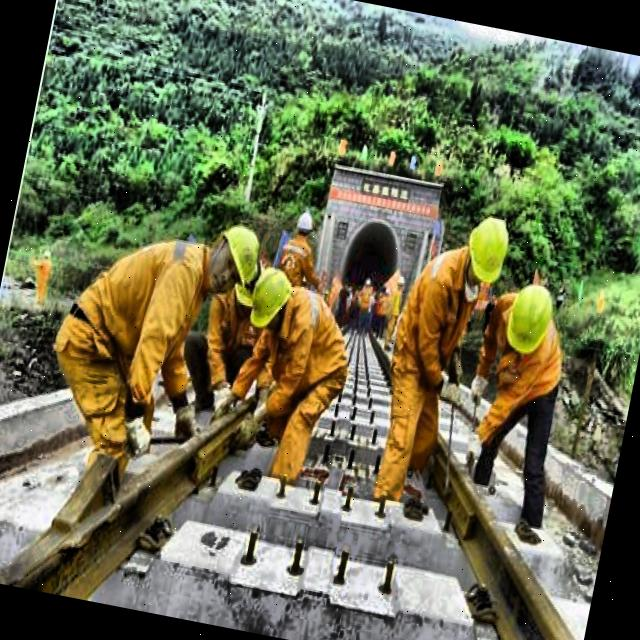helmet: (491, 272, 565, 378), (199, 213, 271, 311), (456, 208, 518, 296), (240, 262, 300, 341), (290, 209, 317, 242)
